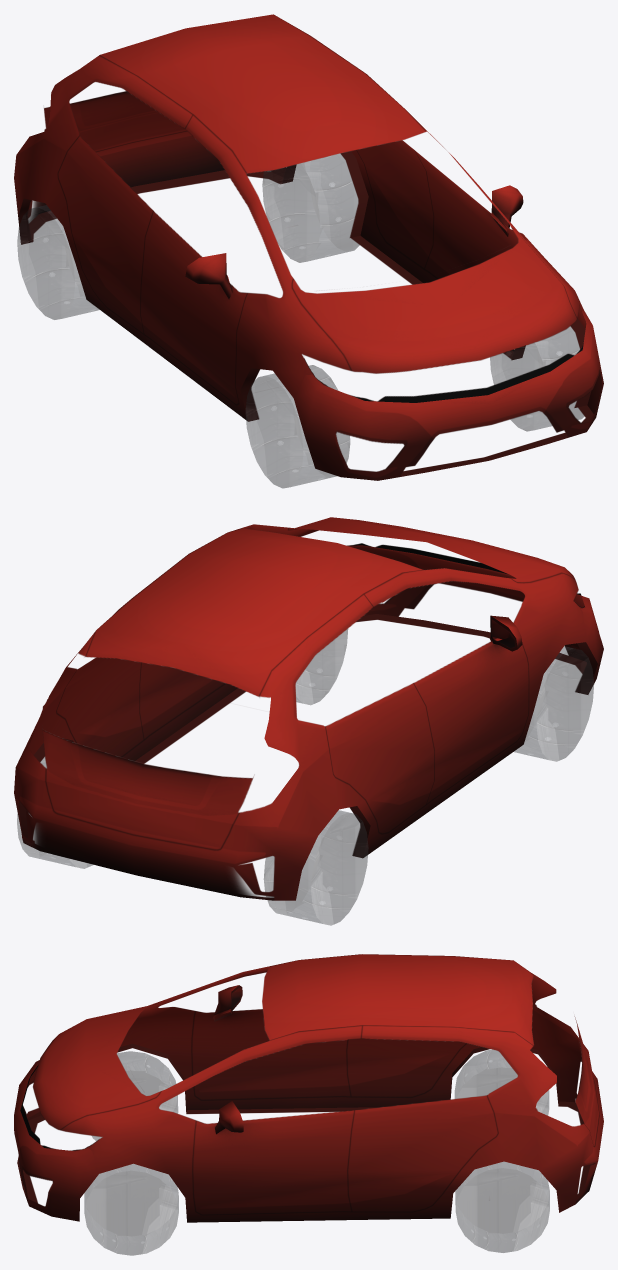
The model's file is hatchback_red.glb.
The picture shows the model from 3 angles, top to bottom: view 1: azimuth 30°, elevation 25°; view 2: azimuth 150°, elevation 25°; view 3: azimuth 270°, elevation 25°; orthographic projection. The views are drawn at different scales.
Parts seen in each view (by area): view 1: Hatchback, Wheels_Rear, Wheel_Front_Left_, Wheel_Front_Right; view 2: Hatchback, Wheels_Rear, Wheel_Front_Left_, Wheel_Front_Right; view 3: Hatchback, Wheels_Rear, Wheel_Front_Right, Wheel_Front_Left_.
Part boxes in pixels (left/top/right/bottom): Hatchback: left=14, top=14, right=603, bottom=480; Wheels_Rear: left=17, top=153, right=359, bottom=319; Wheel_Front_Left_: left=246, top=365, right=349, bottom=488; Wheel_Front_Right: left=490, top=326, right=584, bottom=431; Hatchback: left=14, top=517, right=603, bottom=900; Wheels_Rear: left=17, top=757, right=368, bottom=925; Wheel_Front_Left_: left=514, top=646, right=593, bottom=761; Wheel_Front_Right: left=295, top=629, right=347, bottom=704; Hatchback: left=14, top=954, right=603, bottom=1222; Wheels_Rear: left=455, top=1049, right=549, bottom=1252; Wheel_Front_Right: left=84, top=1164, right=178, bottom=1255; Wheel_Front_Left_: left=92, top=1051, right=177, bottom=1140.
Bounding box in the file's own units: 84.26 × 62.59 × 158.
2 materials, 2 textured.
